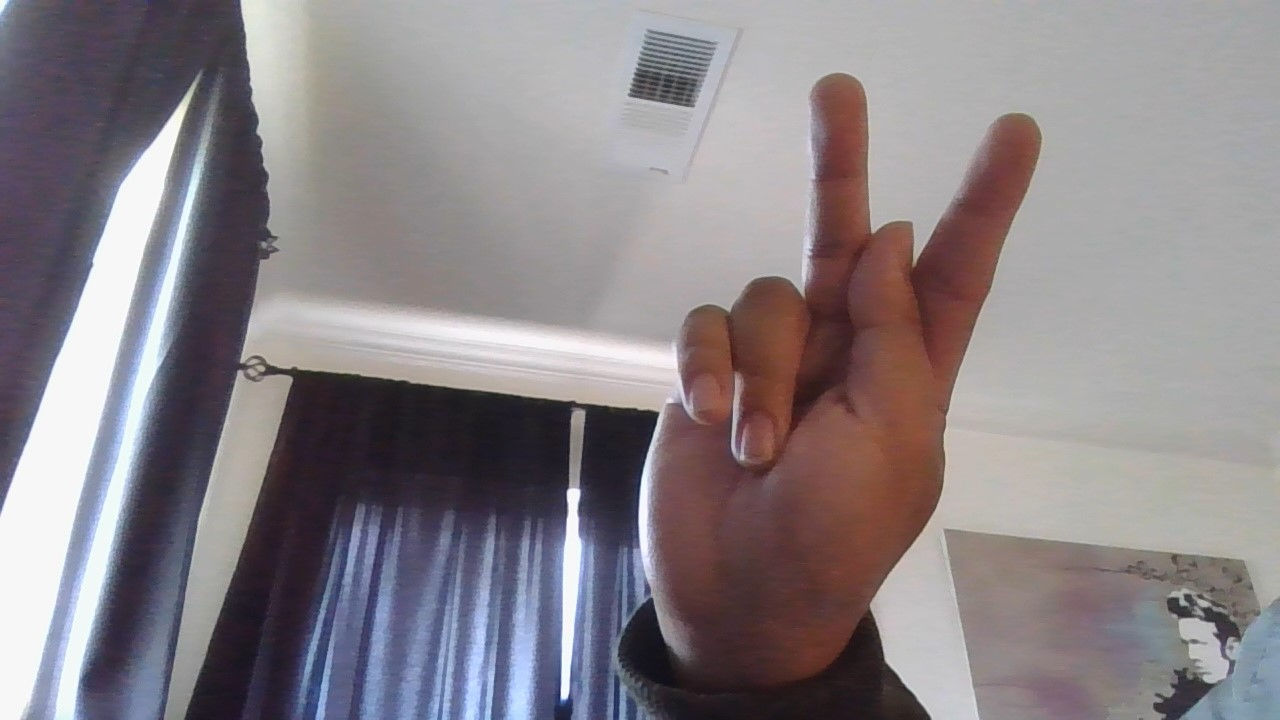k: (619, 65, 1055, 699)
